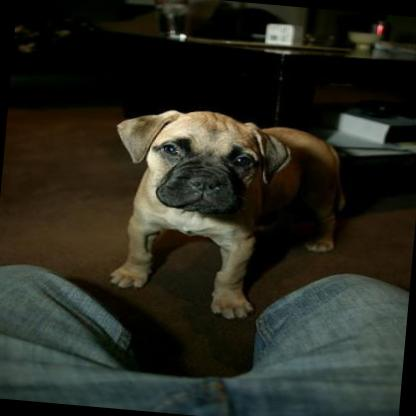bull_mastiff: (98, 100, 356, 328)
